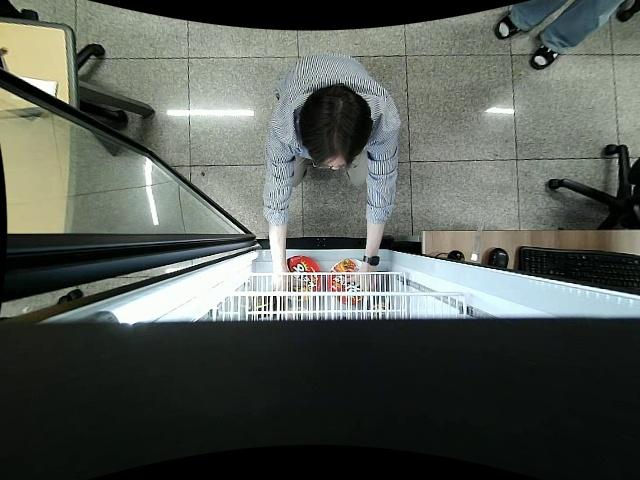00_hand: (275, 261, 304, 291), (348, 266, 378, 295)
10_wangTtukkeong: (329, 259, 372, 304), (290, 254, 321, 298)
